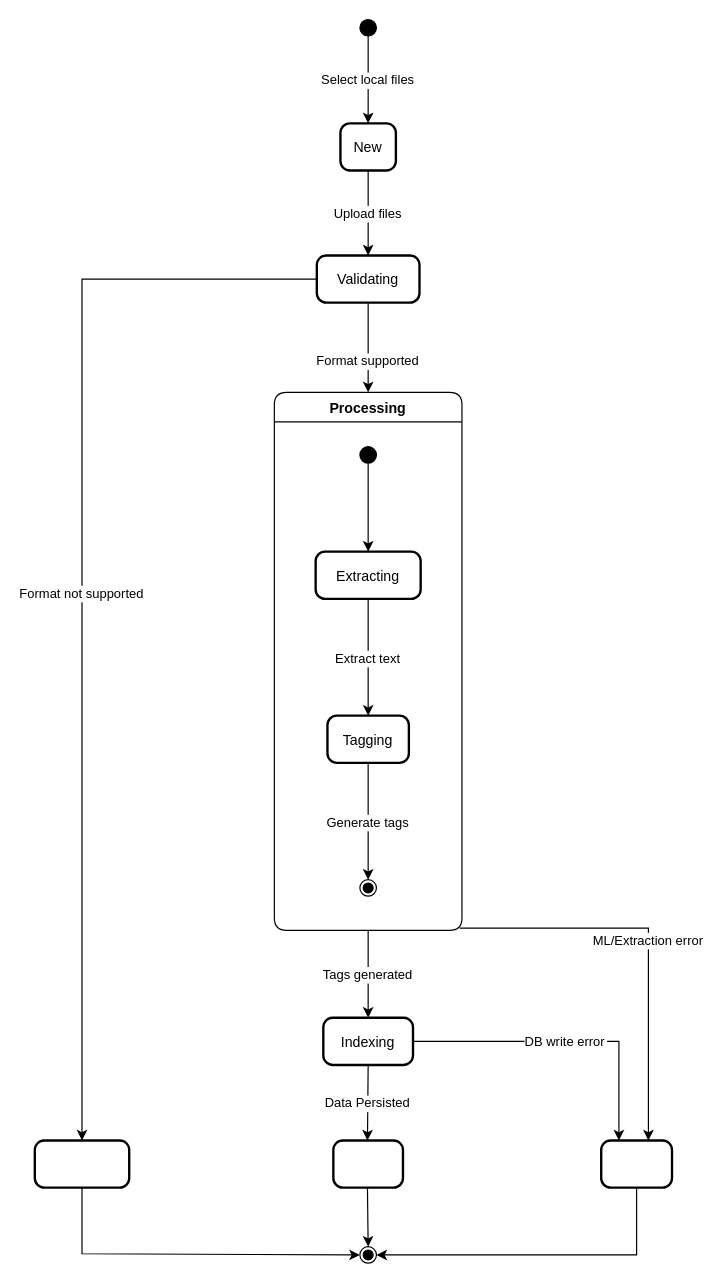
Image size: 725x1283. Some labels were removed from this diagram. Each missing label, with the centre of its shape:
Failed: the point at 636,1163
Ready: the point at 368,1163
Rejected: the point at 81,1163
